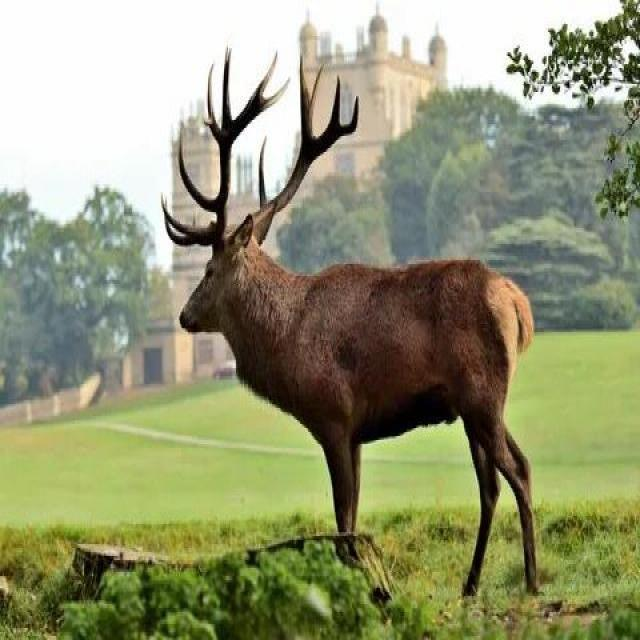deer: (142, 119, 593, 576)
